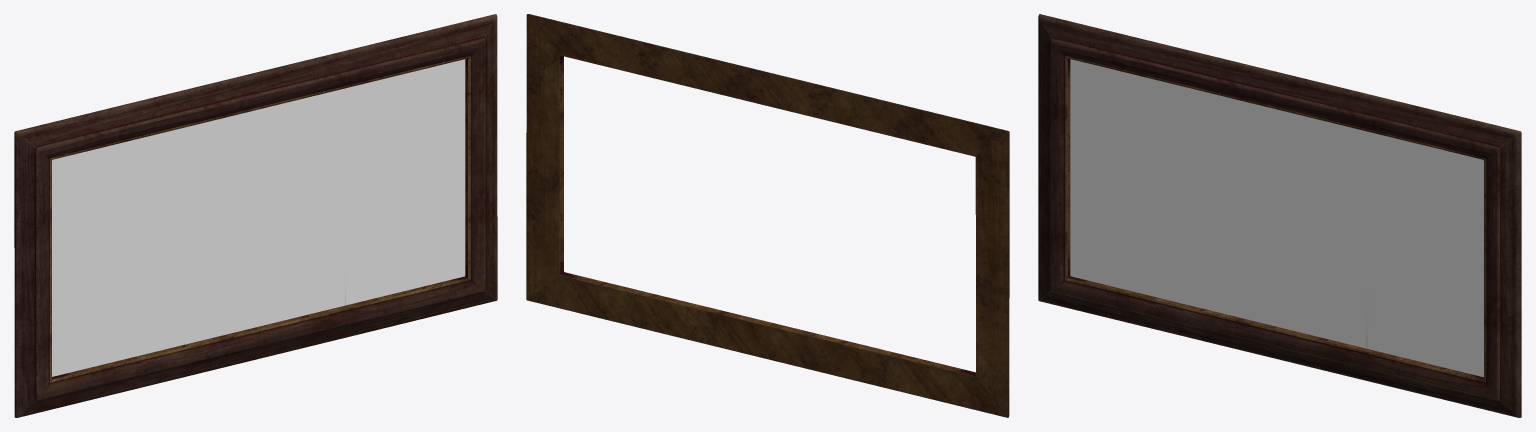
File: painting.glb
The picture shows the model from 3 angles, left to right: view 1: azimuth 30°, elevation 25°; view 2: azimuth 150°, elevation 25°; view 3: azimuth 330°, elevation 25°; orthographic projection.
Parts seen in each view (by area): view 1: Image_Image_0, Frame_Frame_0; view 2: Frame_Frame_0; view 3: Image_Image_0, Frame_Frame_0.
Boxes of the visible parts, box(x1,y1,x2,y2) form: Image_Image_0: box(52, 59, 465, 376); Frame_Frame_0: box(14, 14, 497, 417); Frame_Frame_0: box(526, 14, 1009, 417); Image_Image_0: box(1070, 59, 1483, 377); Frame_Frame_0: box(1038, 14, 1521, 417).
Size of the model in its own units: 60.19 by 34.17 by 1.29.
2 materials, 2 textured.
